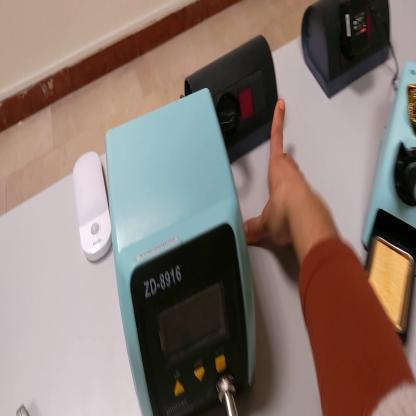hand: (244, 99, 314, 252)
socket: (186, 37, 282, 166), (302, 1, 392, 100)
welder base: (363, 61, 416, 344)
welder probe tip: (409, 157, 416, 201)
welder station: (104, 88, 259, 414)
